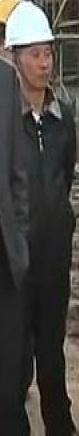hard-hat: (2, 0, 54, 48)
